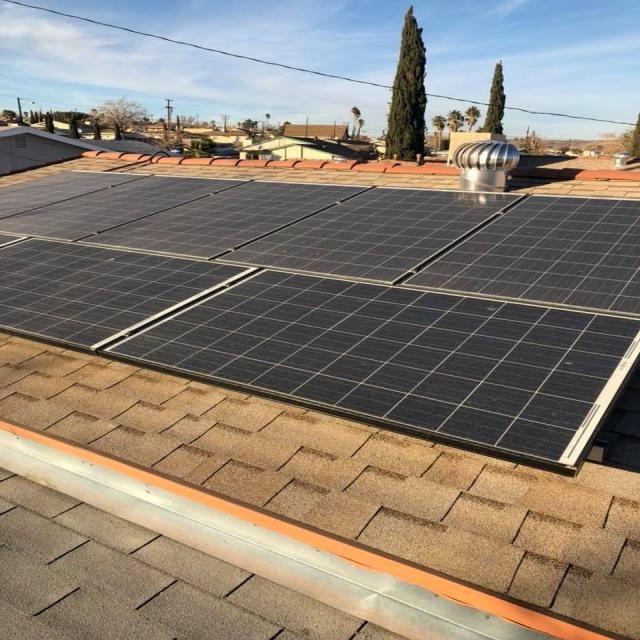dust-solar-panel: (0, 168, 640, 320)
